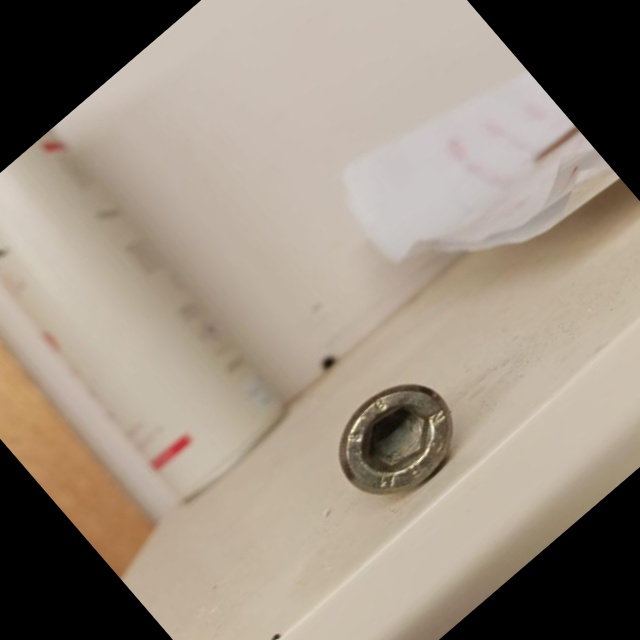allen: (316, 360, 477, 519)
